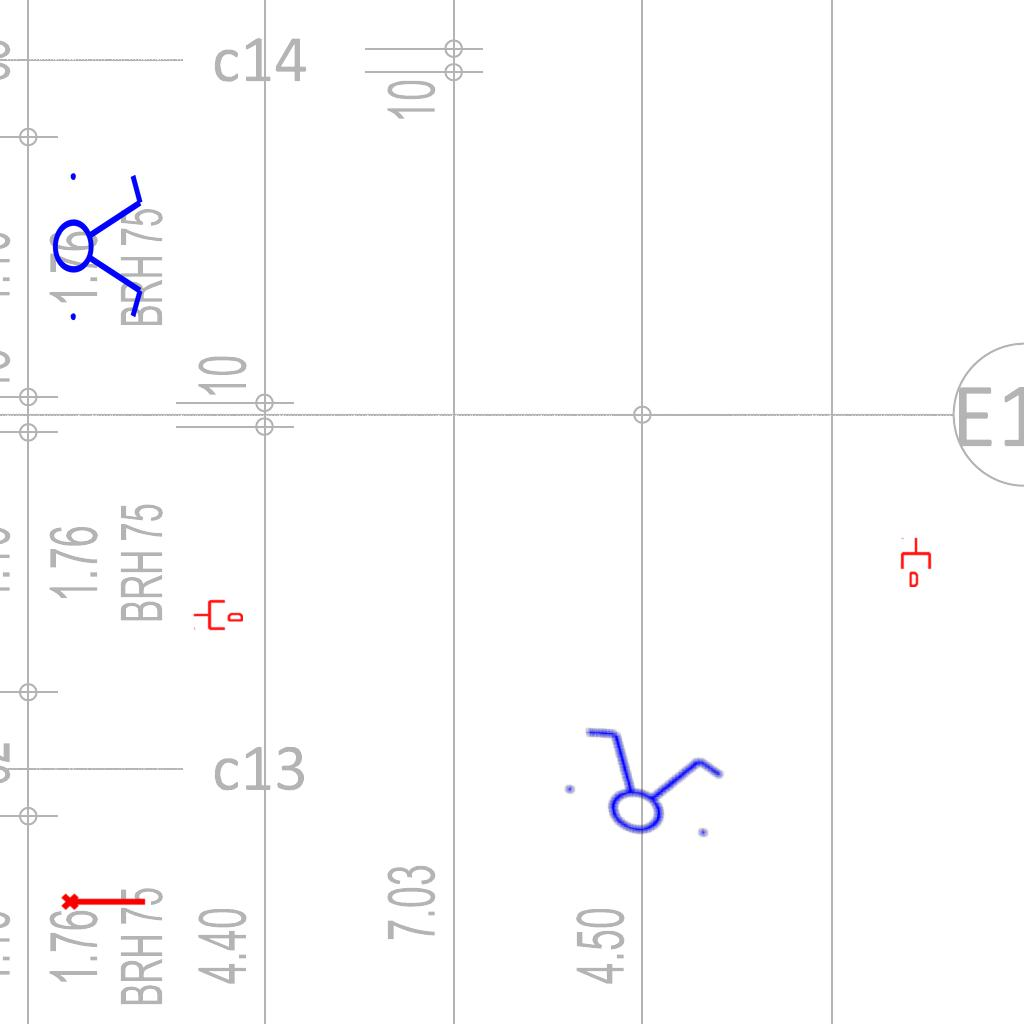ASR_Ansaugoeffnung: (60, 889, 148, 912)
Datenanschluss_einfach: (899, 537, 933, 587), (193, 598, 243, 632)
Serienschalter: (548, 714, 738, 858), (51, 161, 147, 329)
